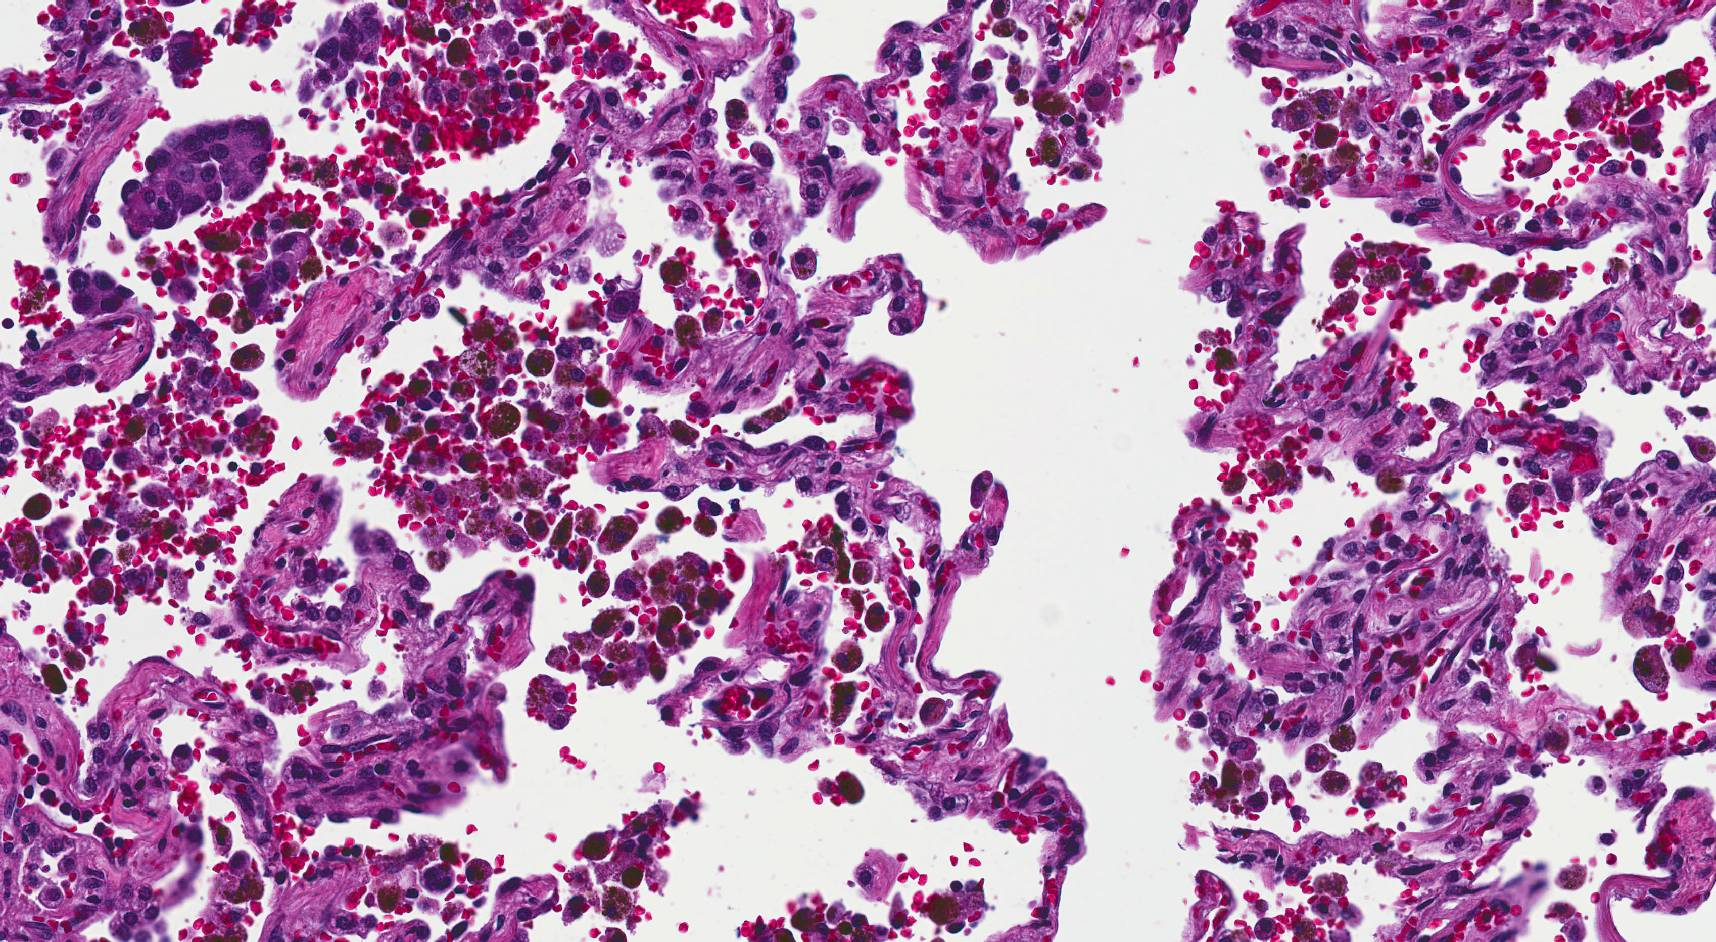stas: (118, 113, 273, 243), (300, 6, 384, 104), (63, 269, 132, 315)
